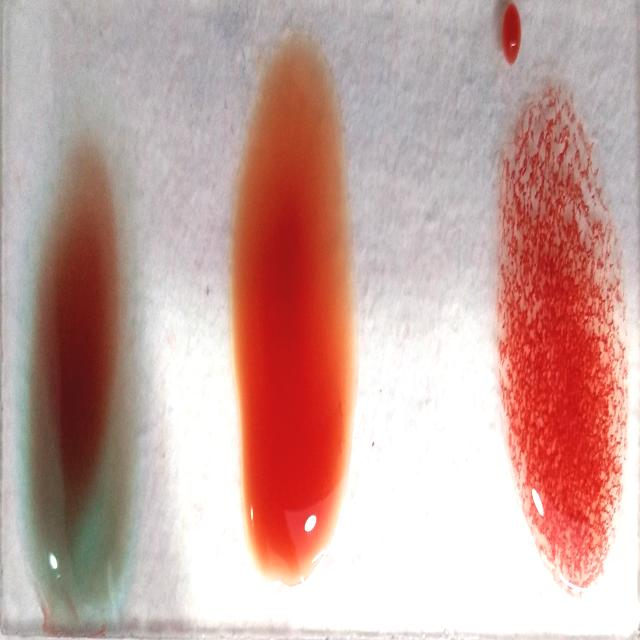D: (502, 107, 626, 605)
